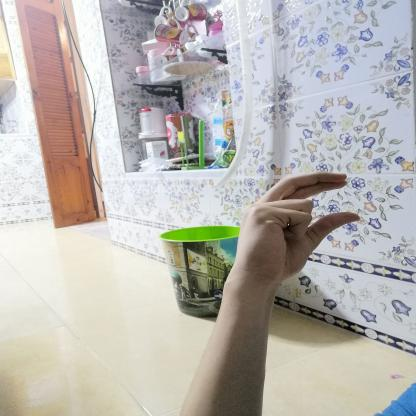DHELL: (223, 164, 372, 287)
